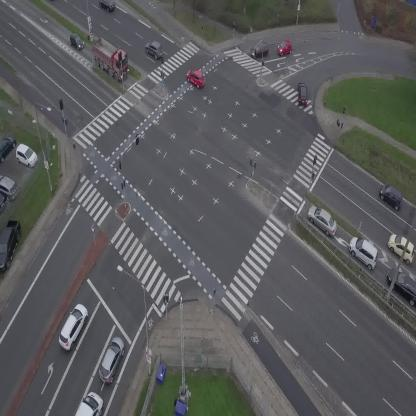car: (54, 301, 92, 352), (95, 335, 129, 386), (344, 233, 385, 271), (303, 202, 343, 240), (376, 181, 407, 211), (183, 66, 208, 90), (142, 38, 166, 60), (65, 31, 86, 53), (275, 40, 293, 57), (249, 43, 268, 58), (297, 83, 307, 104), (99, 0, 115, 11)
lorry: (83, 33, 137, 85), (75, 392, 103, 416)
